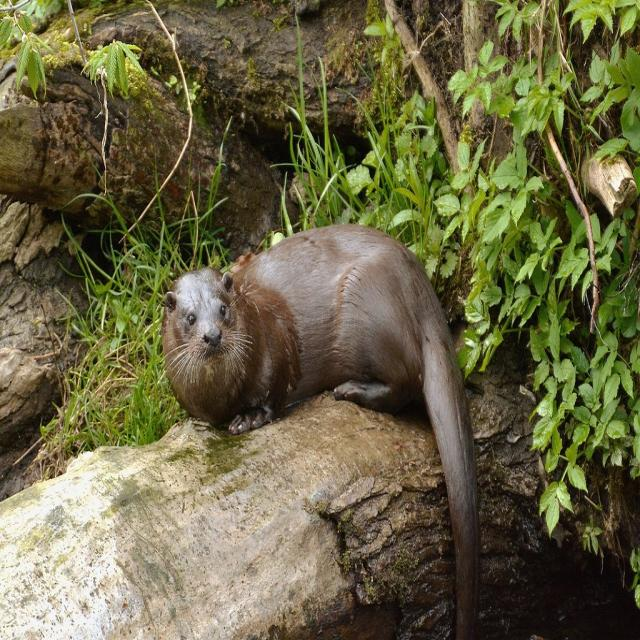otter: (166, 224, 462, 435)
